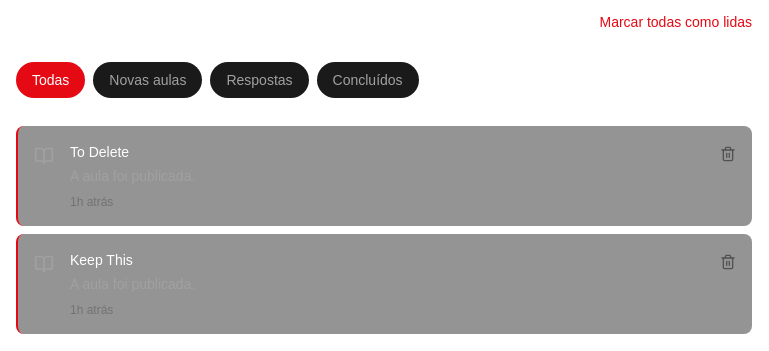
Test: NotificationsPage › deletes notification optimistically
Expected: the text "To Delete" is shown, [70, 144, 129, 160]
Click the 1st button named "Deletar notificação".
click(728, 154)  # box [720, 146, 736, 162]
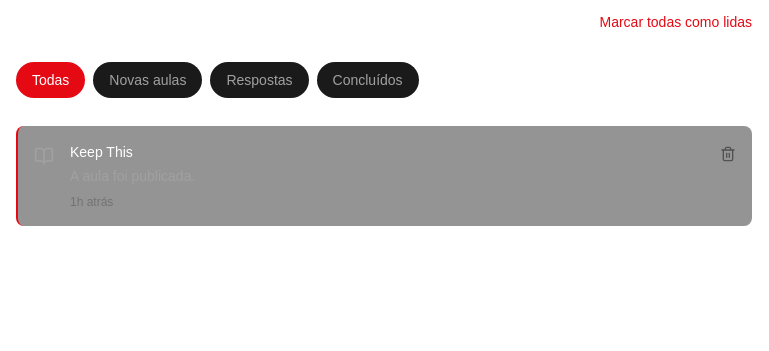
Expected: the text "Keep This" is shown, [70, 144, 133, 160]
Now the button "To Delete" is gone
